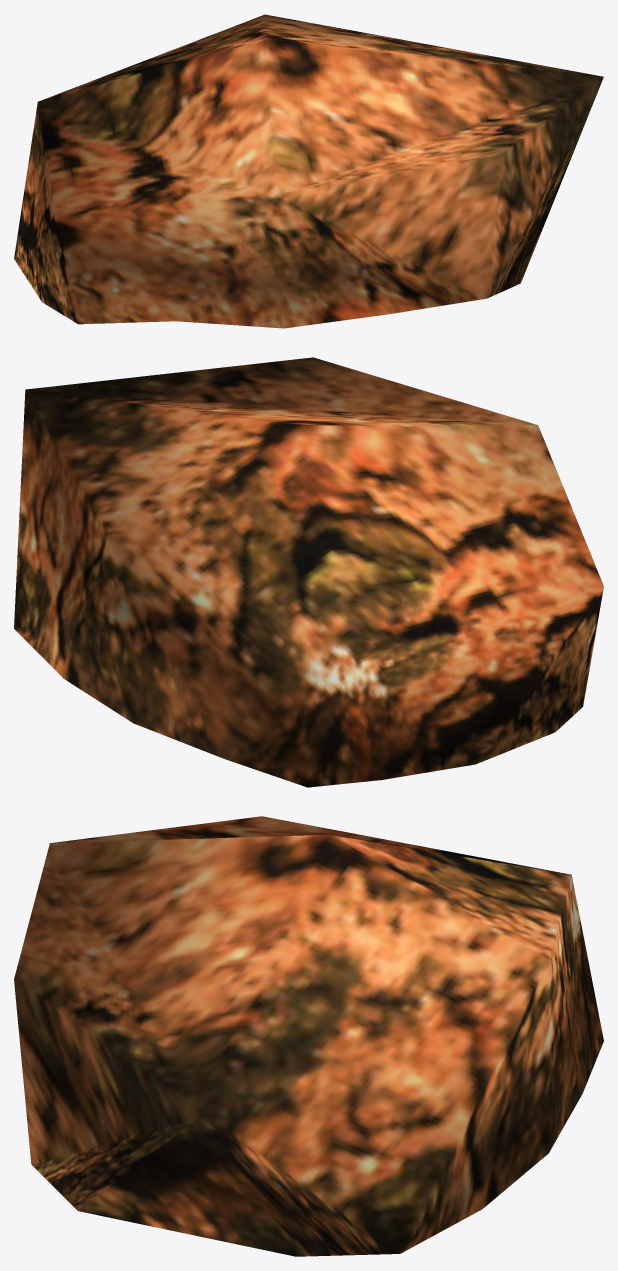
Rendered from stone5_tex3.fbx.
The picture shows the model from 3 angles, top to bottom: view 1: azimuth 30°, elevation 25°; view 2: azimuth 150°, elevation 25°; view 3: azimuth 270°, elevation 25°; orthographic projection. The views are drawn at different scales.
Visible parts, largest first — view 1: stone5_tex3Object; view 2: stone5_tex3Object; view 3: stone5_tex3Object.
Part boxes in pixels (x1,y1,x2,y2): stone5_tex3Object: [14, 14, 603, 328]; stone5_tex3Object: [14, 357, 603, 787]; stone5_tex3Object: [14, 816, 603, 1256].
Bounding box in the file's own units: 1.17 × 0.4536 × 0.8707.
Materials: 1 (1 with a texture image).
